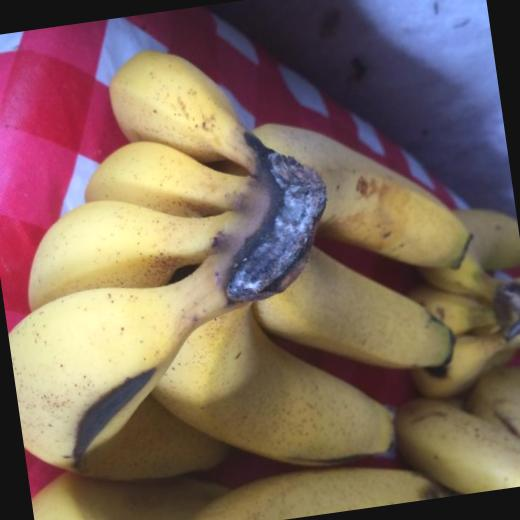Banana: (0, 1, 520, 520), (389, 379, 520, 502)
